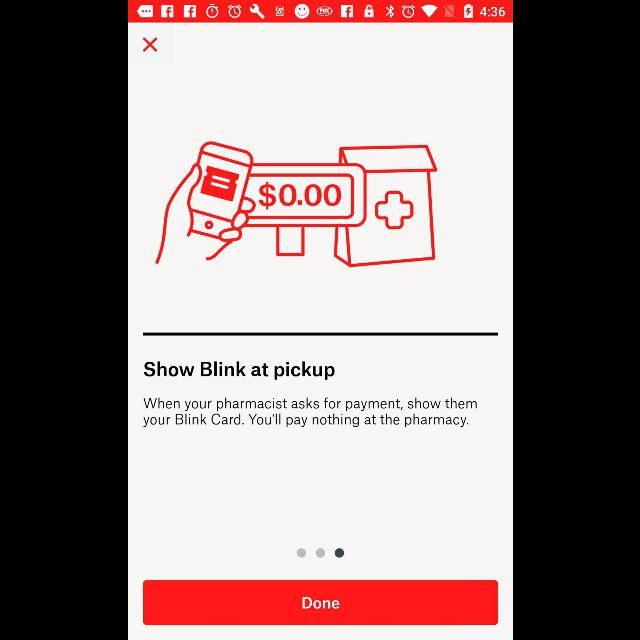icon: (142, 38, 156, 52)
image: (154, 142, 438, 268)
pageindicator: (296, 548, 344, 558)
text: (142, 398, 476, 428), (143, 362, 334, 381)
textbutton: (142, 581, 498, 625)
uppertaskbar: (128, 1, 512, 23)
